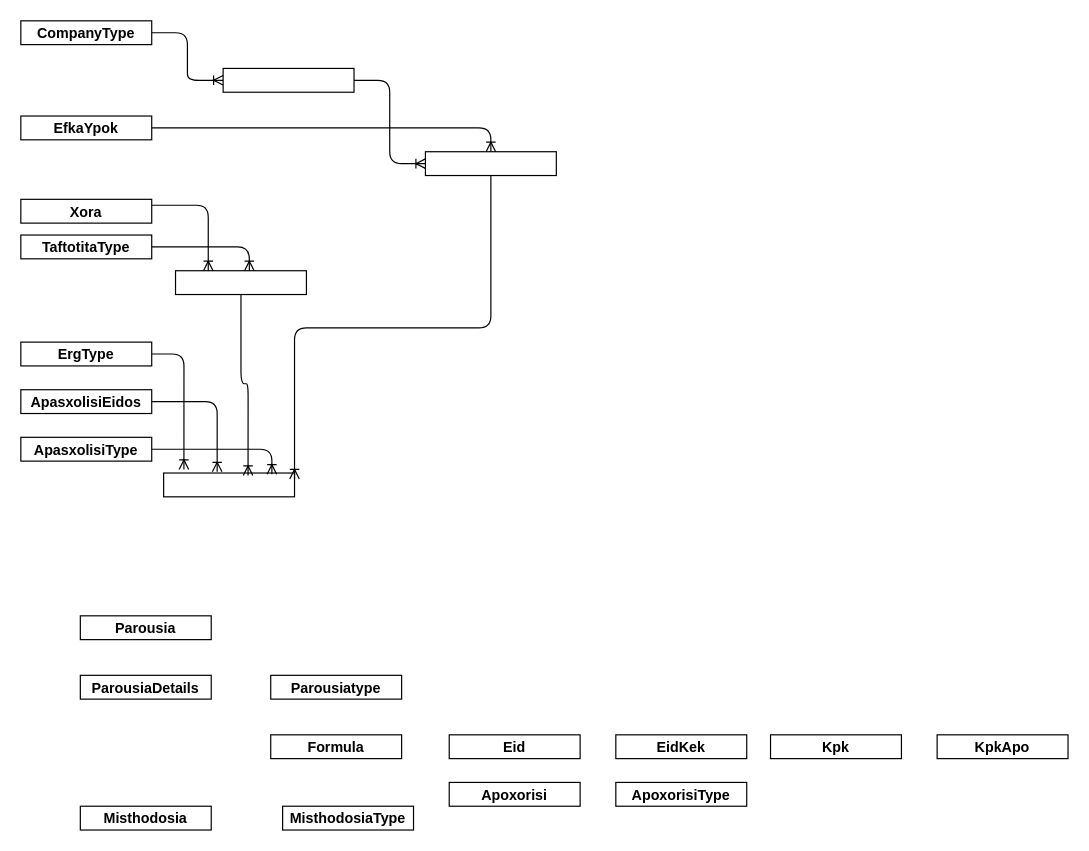
Some shapes in this 1089 by 851 pixel diagram are drawn without their labels. The box of each missing label's shape, as (x1, y1, x2, y2) in pixels:
Company: (222, 67, 354, 92)
CompanyParartima: (424, 151, 556, 176)
Ergazomenos: (174, 270, 306, 295)
Proslipsi: (162, 472, 295, 497)
